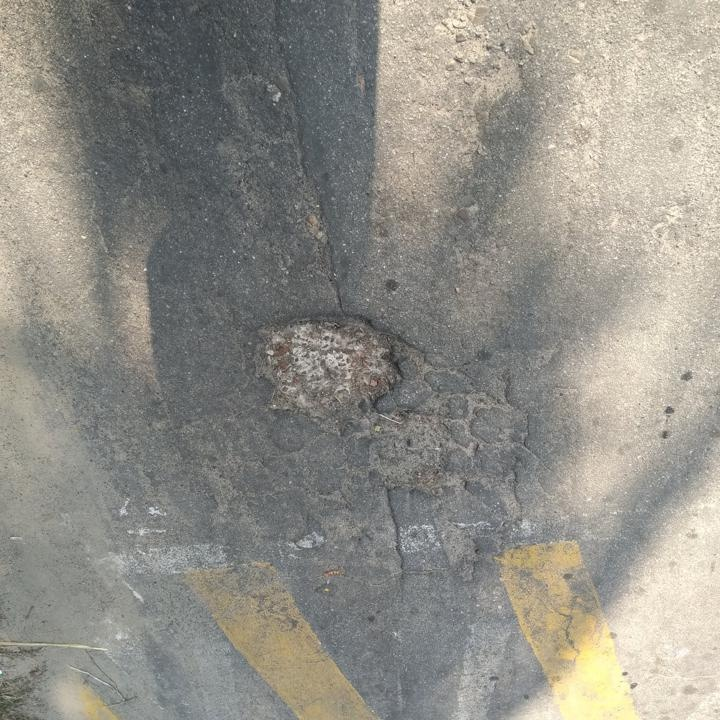pothole: (245, 308, 409, 425), (359, 409, 463, 499)
